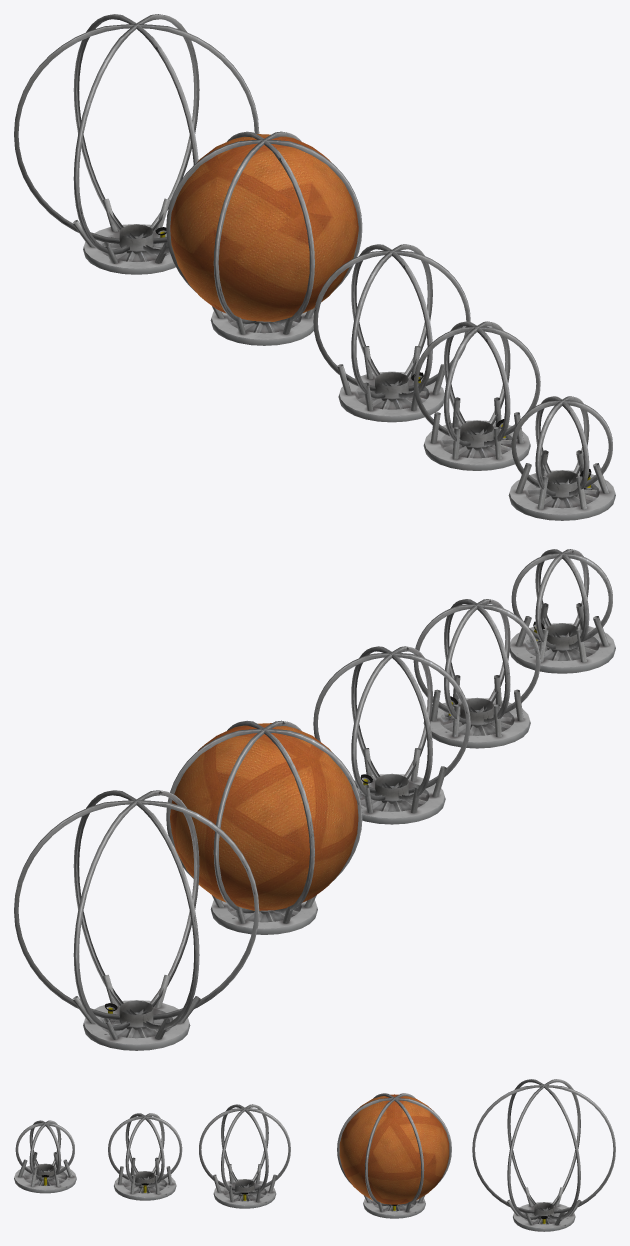
The model's file is piece_lowres-v2-c125-r111-export.dae.
3 views of the same model, one above another, from view 1: azimuth 30°, elevation 25°; view 2: azimuth 150°, elevation 25°; view 3: azimuth 270°, elevation 25° (orthographic). The views are drawn at different scales.
Visible parts, largest first — view 1: tank-r111, tank-struct-r140, tank-struct-r88, tank-struct-r111, base-plate-c125-r55, base-plate-c125-r70, base-plate-c125-r88, tank-struct-r70, base-plate-c125-r140, tank-struct-r55, base-plate-c125-r111; view 2: tank-r111, tank-struct-r140, tank-struct-r88, tank-struct-r111, base-plate-c125-r55, base-plate-c125-r140, base-plate-c125-r70, tank-struct-r70, base-plate-c125-r88, tank-struct-r55, base-plate-c125-r111; view 3: tank-r111, tank-struct-r140, tank-struct-r88, tank-struct-r111, base-plate-c125-r88, base-plate-c125-r70, tank-struct-r70, base-plate-c125-r55, base-plate-c125-r140, tank-struct-r55, base-plate-c125-r111.
Part boxes in pixels (x1=…): tank-r111: x1=170, y1=134, x2=358, y2=321; tank-struct-r140: x1=14, y1=14, x2=259, y2=254; tank-struct-r88: x1=313, y1=244, x2=470, y2=398; tank-struct-r111: x1=166, y1=131, x2=362, y2=324; base-plate-c125-r55: x1=508, y1=450, x2=615, y2=520; base-plate-c125-r70: x1=423, y1=397, x2=530, y2=470; base-plate-c125-r88: x1=337, y1=346, x2=444, y2=422; tank-struct-r70: x1=413, y1=321, x2=540, y2=446; base-plate-c125-r140: x1=72, y1=198, x2=175, y2=274; tank-struct-r55: x1=511, y1=396, x2=612, y2=496; base-plate-c125-r111: x1=210, y1=306, x2=314, y2=345; tank-r111: x1=170, y1=723, x2=358, y2=910; tank-struct-r140: x1=14, y1=790, x2=259, y2=1030; tank-struct-r88: x1=313, y1=646, x2=470, y2=800; tank-struct-r111: x1=166, y1=720, x2=362, y2=913; base-plate-c125-r55: x1=509, y1=603, x2=615, y2=673; base-plate-c125-r140: x1=72, y1=974, x2=200, y2=1050; base-plate-c125-r70: x1=423, y1=675, x2=530, y2=748; tank-struct-r70: x1=413, y1=599, x2=540, y2=723; base-plate-c125-r88: x1=354, y1=748, x2=446, y2=824; tank-struct-r55: x1=511, y1=549, x2=612, y2=648; base-plate-c125-r111: x1=210, y1=895, x2=317, y2=934; tank-r111: x1=339, y1=1094, x2=449, y2=1204; tank-struct-r140: x1=472, y1=1079, x2=615, y2=1219; tank-struct-r88: x1=199, y1=1104, x2=290, y2=1194; tank-struct-r111: x1=337, y1=1093, x2=451, y2=1205; base-plate-c125-r88: x1=213, y1=1164, x2=276, y2=1208; base-plate-c125-r70: x1=114, y1=1157, x2=176, y2=1200; tank-struct-r70: x1=108, y1=1113, x2=182, y2=1186; base-plate-c125-r55: x1=14, y1=1152, x2=76, y2=1193; base-plate-c125-r140: x1=506, y1=1187, x2=581, y2=1231; tank-struct-r55: x1=15, y1=1120, x2=74, y2=1178; base-plate-c125-r111: x1=363, y1=1195, x2=425, y2=1218.
Bounding box in the file's own units: 2.52 × 2.95 × 12.07.
Materials: 2 (2 with a texture image).
